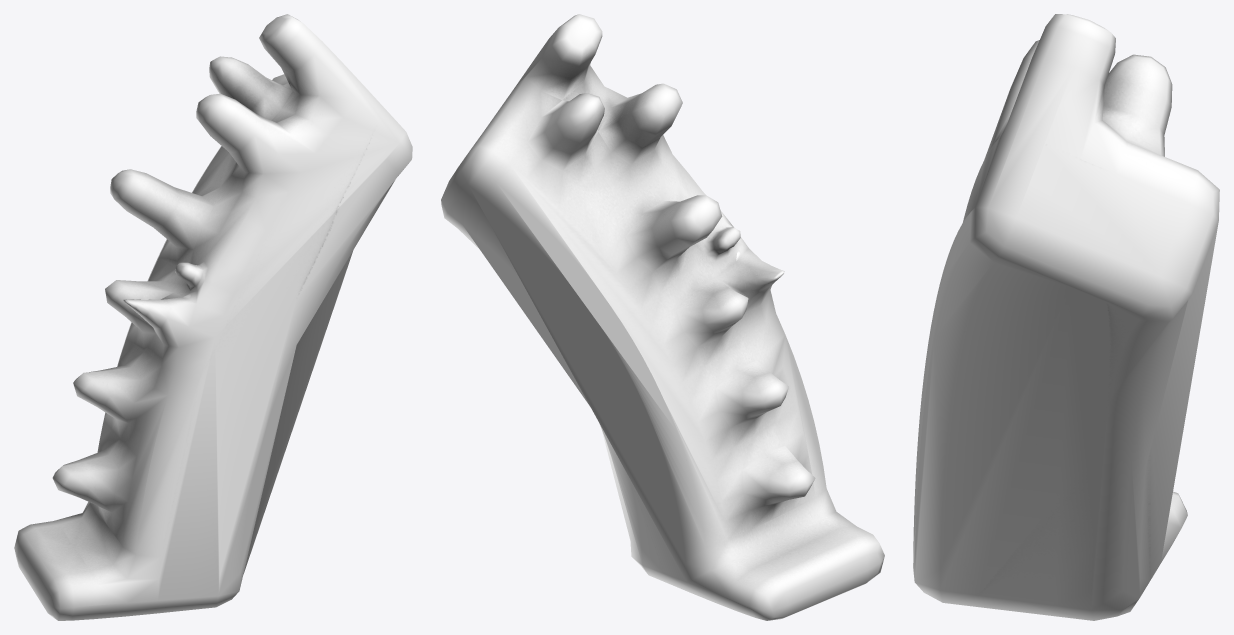
The model's file is thing.fbx.
3 renders of one model, left to right at view 1: azimuth 30°, elevation 25°; view 2: azimuth 150°, elevation 25°; view 3: azimuth 270°, elevation 25°, orthographic. The views are drawn at different scales.
Visible parts, largest first — view 1: Box002; view 2: Box002; view 3: Box002.
Boxes of the visible parts, box(x1,y1,x2,y2) form: Box002: box(14, 14, 412, 620); Box002: box(441, 14, 884, 620); Box002: box(913, 14, 1219, 620).
Size of the model in its own units: 61.45 by 82.63 by 34.75.
Materials: 1 (1 with a texture image).
